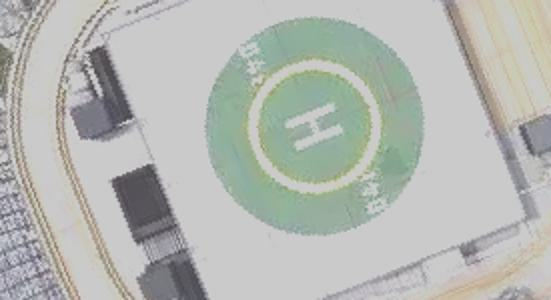Apron: (244, 56, 385, 193)
